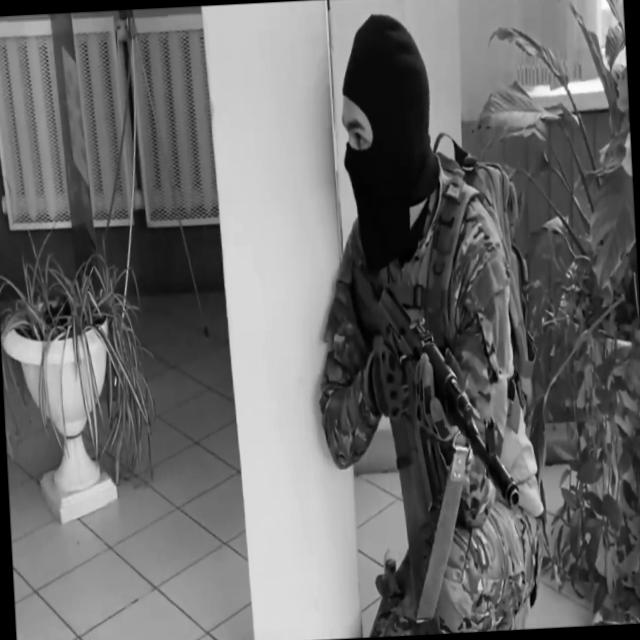gun: (346, 252, 523, 519)
person with a gun: (300, 5, 550, 640)
